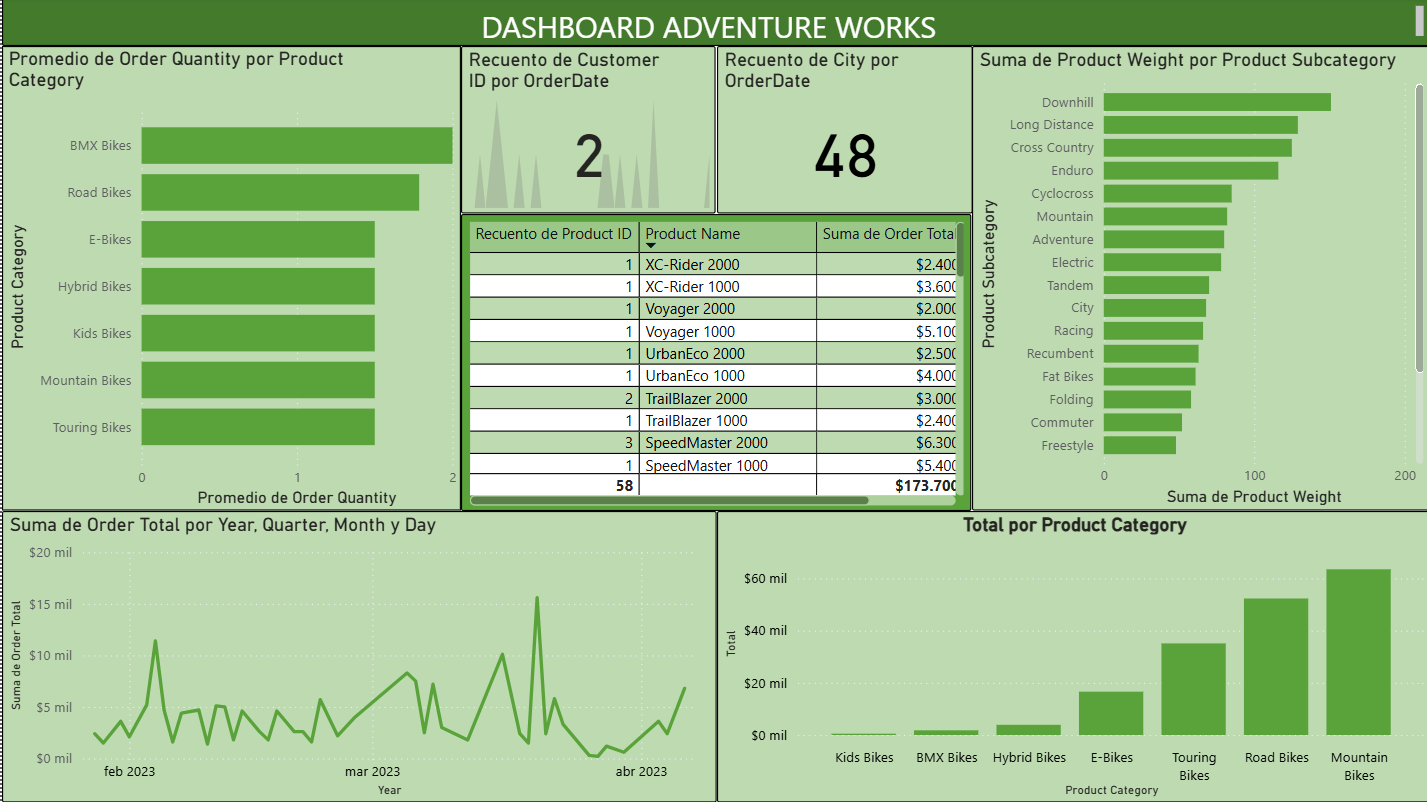

The page's visual inventory and layout, read from the dashboard file:
{"tool":"powerbi","page":{"name":"Page 1","canvas":[1280,720],"ordinal":0},"visuals":[{"type":"tableEx","fields":{"Values":["CountNonNull(Sales.Product ID)","Sales.Product Name","Sum(Sales.Order Total)","Sales.Order Status"]},"box":[411.4,193.1,457.1,265.9],"z":0},{"type":"clusteredColumnChart","title":"Total por Product Category","fields":{"Category":["Sales.Product Category"],"Y":["Sum(Sales.Order Total)"]},"box":[640.3,459.4,639.4,260.6],"z":1000},{"type":"lineChart","fields":{"Y":["Sum(Sales.Order Total)"],"Category":["Sales.OrderDate.Variation.Date Hierarchy.Year","Sales.OrderDate.Variation.Date Hierarchy.Quarter","Sales.OrderDate.Variation.Date Hierarchy.Month","Sales.OrderDate.Variation.Date Hierarchy.Day"]},"box":[0,459.4,640.3,260.6],"z":2000},{"type":"kpi","fields":{"TrendLine":["Sales.OrderDate"],"Indicator":["CountNonNull(Sales.Customer ID)"]},"box":[411.4,42.9,227.6,150.2],"z":3000},{"type":"kpi","fields":{"Indicator":["CountNonNull(Customers.City)"],"TrendLine":["Sales.OrderDate"]},"box":[640,42.9,228.6,150.2],"z":4000},{"type":"textbox","box":[0,0,1279,42.8],"z":5000},{"type":"clusteredBarChart","fields":{"Category":["Sales.Product Category"],"Y":["Avg(Sales.Order Quantity)"]},"box":[0,42.9,411.4,416.1],"z":5001},{"type":"clusteredBarChart","fields":{"Category":["Sales.Product Subcategory"],"Y":["Sum(Sales.Product Weight)"]},"box":[868.6,42.9,410.5,416.1],"z":5002}]}

Visuals, with their boxes in screenshot pixels (x1, y1, x2, y2), scaled from the page's 1280x720 canvas onto the 1427x802 screenshot:
tableEx - CountNonNull(Sales.Product ID) x Sales.Product Name: rect(459, 215, 968, 511)
"Total por Product Category" clusteredColumnChart: rect(714, 512, 1426, 801)
lineChart - Sum(Sales.Order Total) x Sales.OrderDate.Variation.Date Hierarchy.Year: rect(0, 512, 714, 801)
kpi - Sales.OrderDate x CountNonNull(Sales.Customer ID): rect(459, 48, 712, 215)
kpi - CountNonNull(Customers.City) x Sales.OrderDate: rect(714, 48, 968, 215)
textbox: rect(0, 0, 1426, 48)
clusteredBarChart - Sales.Product Category x Avg(Sales.Order Quantity): rect(0, 48, 459, 511)
clusteredBarChart - Sales.Product Subcategory x Sum(Sales.Product Weight): rect(968, 48, 1426, 511)
